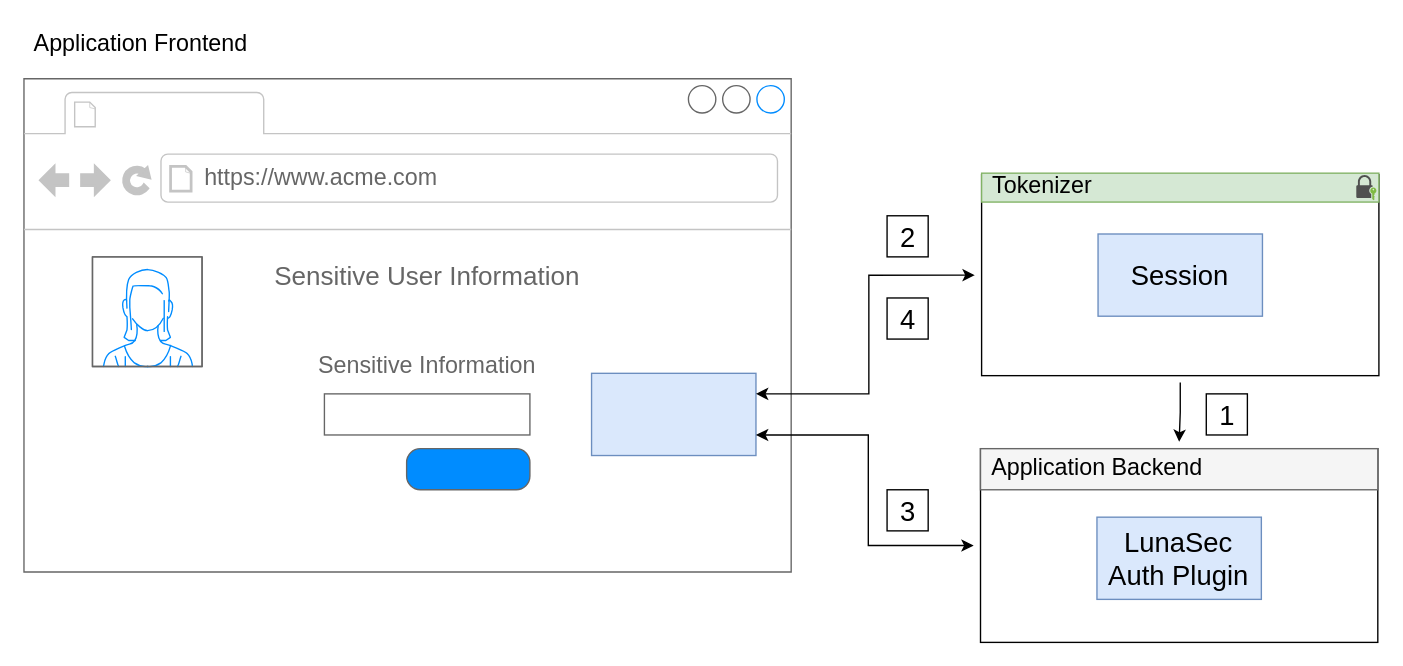
The diagram is 1403 pixels wide and 666 high, and some of its shapes have lost their labels. The box of each missing label's shape, as (x1, y1, x2, y2) in pixels:
LunaSec SDK: (590, 372, 756, 456)
Save: (405, 447, 530, 490)
Sensitive Info: (105, 94, 257, 131)
